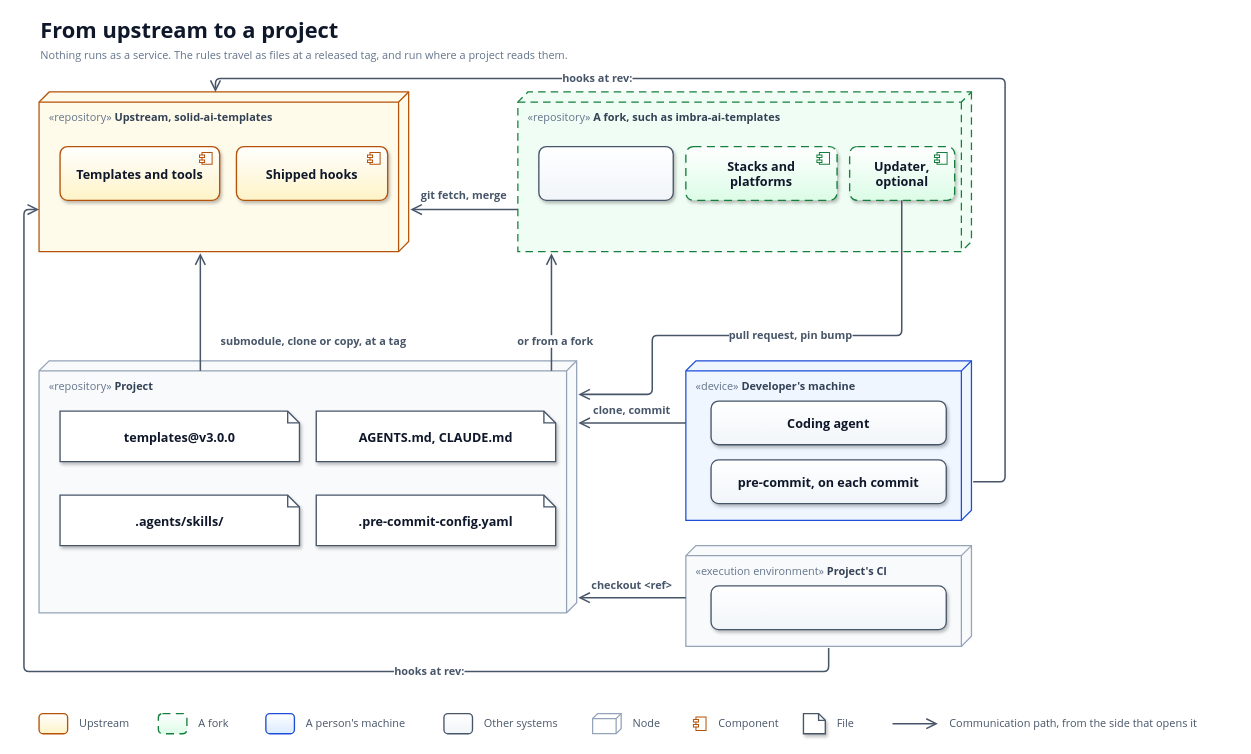
Some shapes in this 1251 by 754 pixel diagram are drawn without their labels. Here are the shapes that lost their labels. From the top down, the centre of each, then its label:
At point (606, 174): "Upstream, merged".
At point (829, 608): "pre-commit, on each push".
